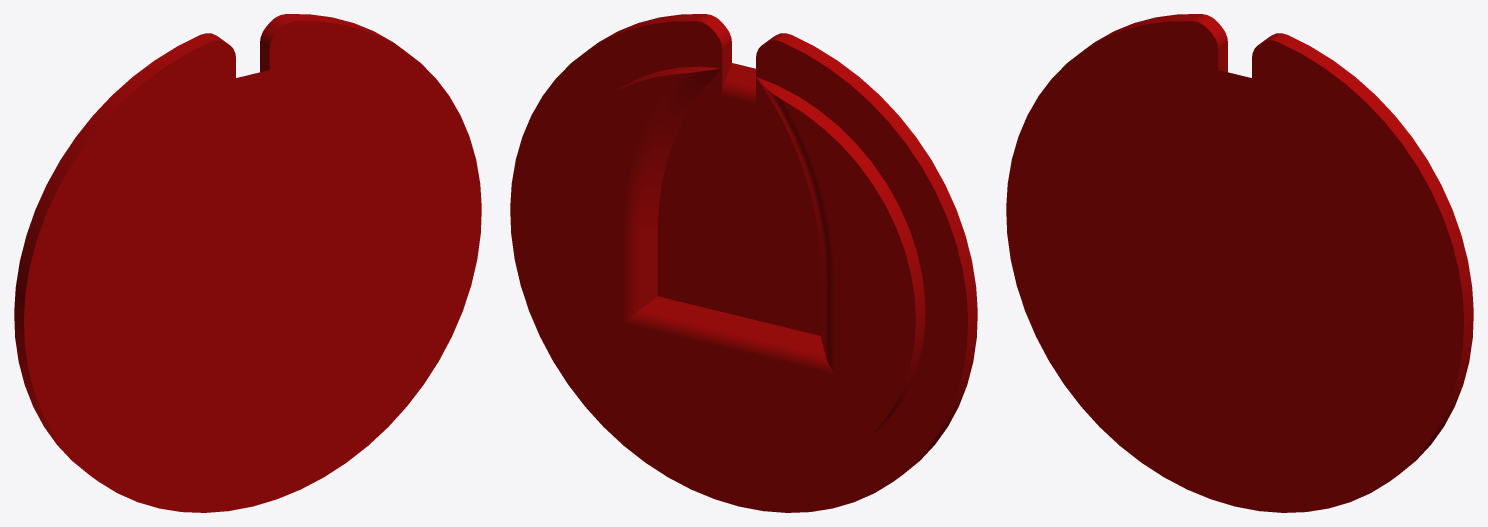
The model's file is XYZ Stage V5_Z Stage LED Mount V5.obj.
3 views of the same model, side by side, from view 1: azimuth 30°, elevation 25°; view 2: azimuth 150°, elevation 25°; view 3: azimuth 330°, elevation 25° (orthographic).
Parts seen in each view (by area): view 1: Solid1:3; view 2: Solid1:3; view 3: Solid1:3.
Boxes of the visible parts, bbox=[...] form: Solid1:3: bbox=[14, 14, 481, 512]; Solid1:3: bbox=[510, 14, 977, 512]; Solid1:3: bbox=[1006, 14, 1473, 512].
Bounding box in the file's own units: 27.4 × 27.17 × 2.
